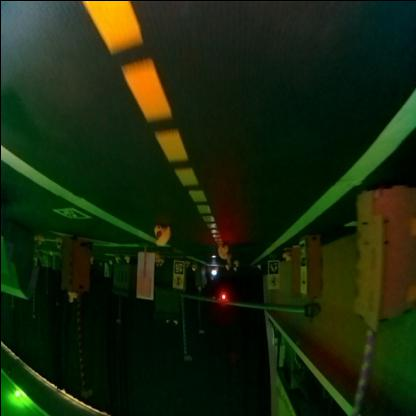Duckie: (152, 225, 168, 246), (216, 246, 225, 260), (66, 293, 76, 303), (53, 237, 60, 249), (34, 236, 43, 244), (283, 254, 289, 262), (158, 258, 164, 266), (123, 256, 128, 263), (233, 259, 237, 267), (115, 256, 118, 264)
Intersection sign: (298, 269, 304, 291), (267, 276, 277, 288)
QR code: (297, 241, 304, 265), (268, 262, 277, 274), (174, 262, 182, 274)
Signal sign: (172, 275, 182, 287)
Traffic light: (219, 293, 224, 303)
